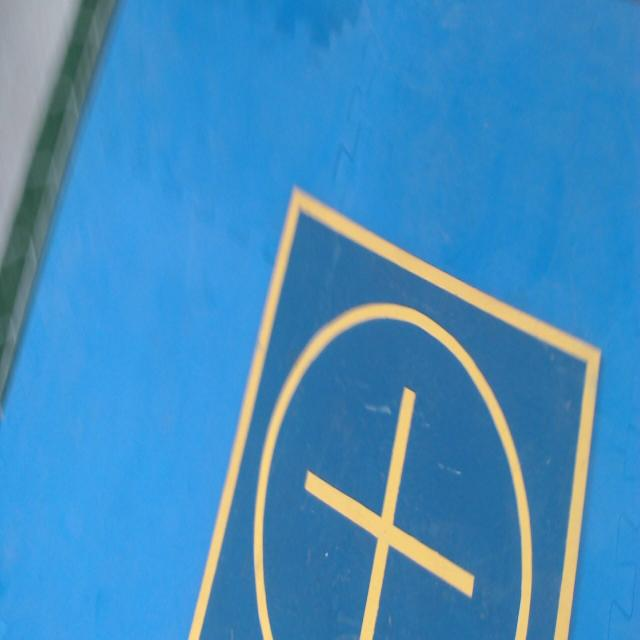base_pouso: (187, 187, 602, 639)
